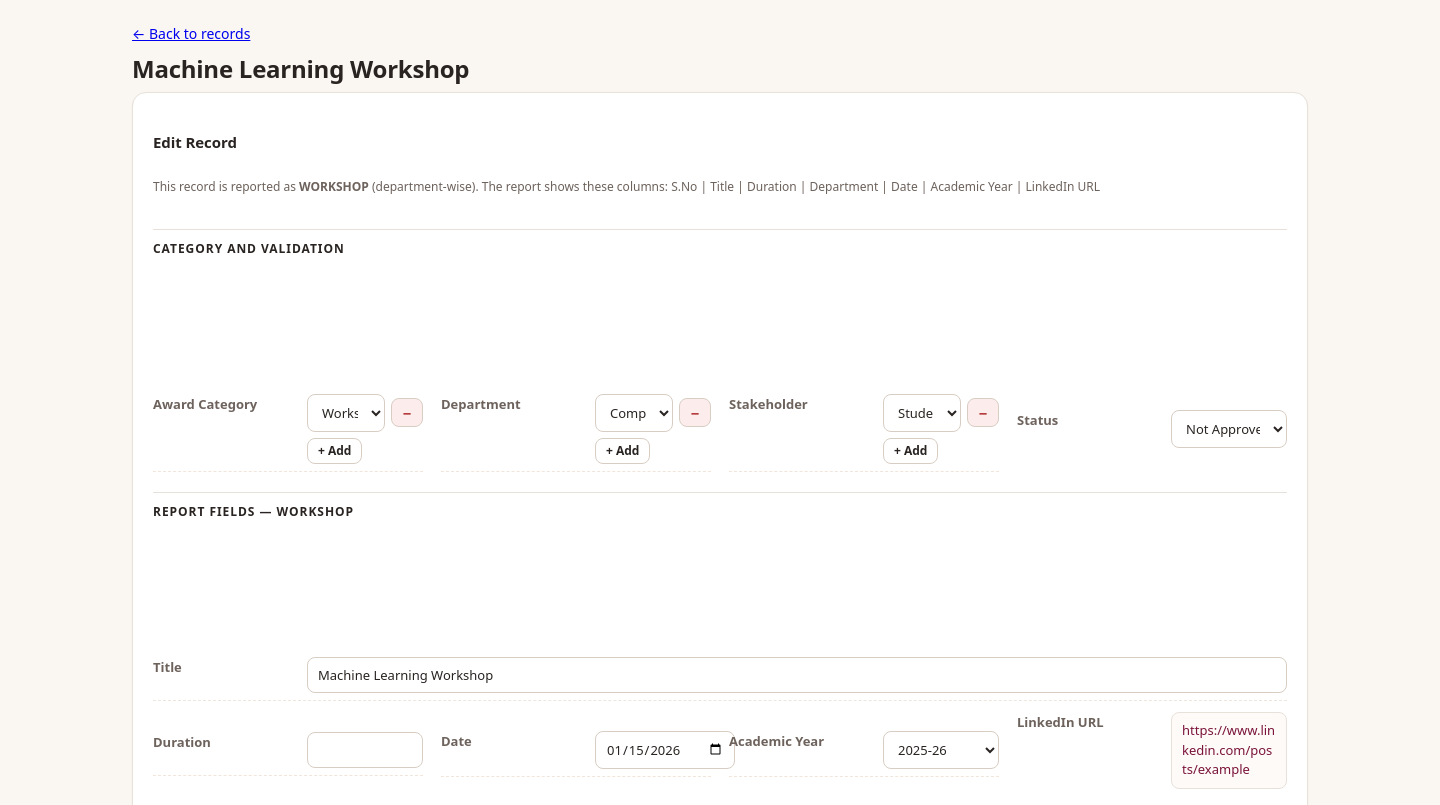
Test: LinkedIn Admin Record Detail › removes an existing department value and sends the empty array in the PATCH payload
Expected: the dropdown labelled "Department" is shown, [595,394,673,432]
Remove the first (and only) department row.
Click the button named "Remove Department 1".
click(695, 413)  # box [679,398,711,427]
(page scrolled)
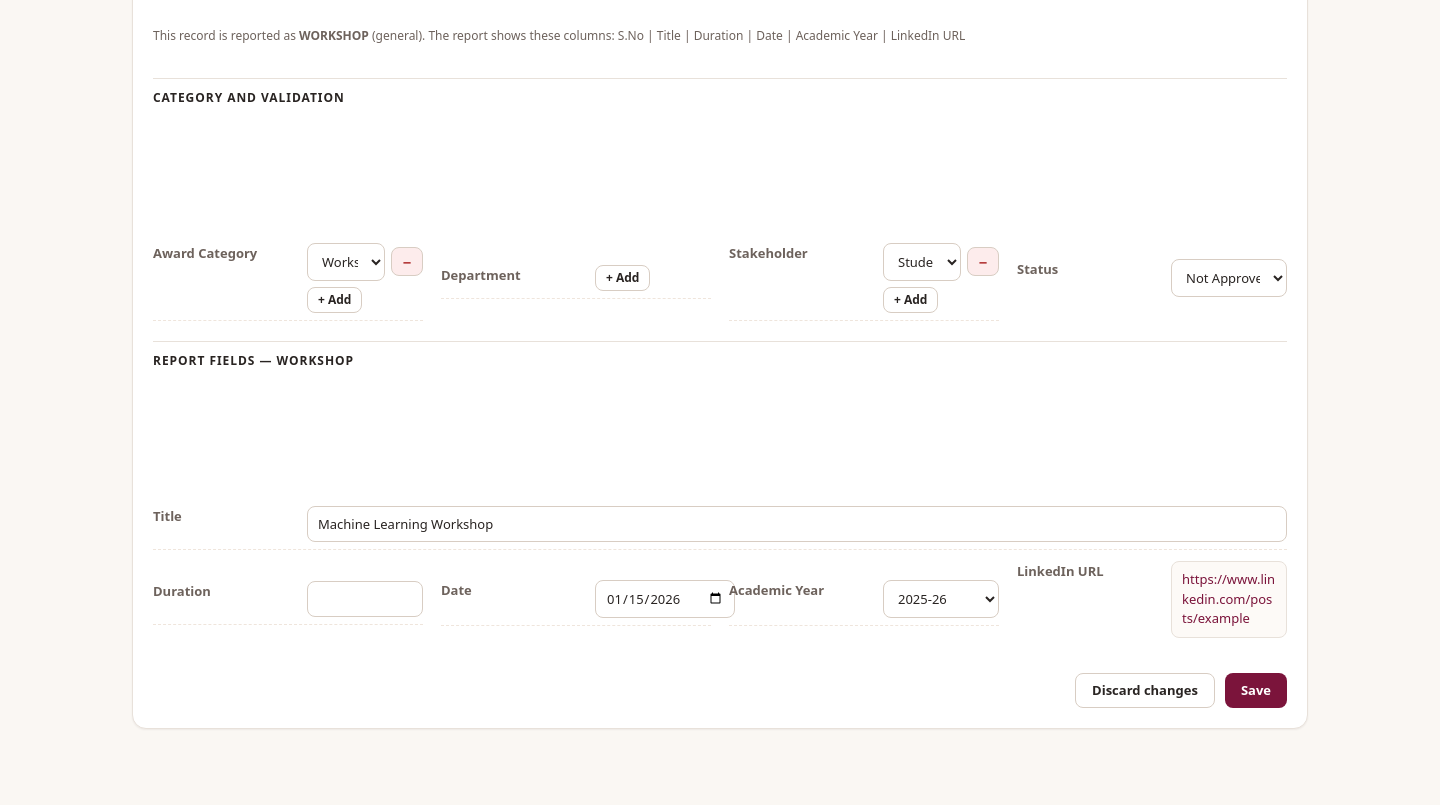
Click the button "Save".
click(1256, 690)  # box [1225,673,1287,708]
(page scrolled)
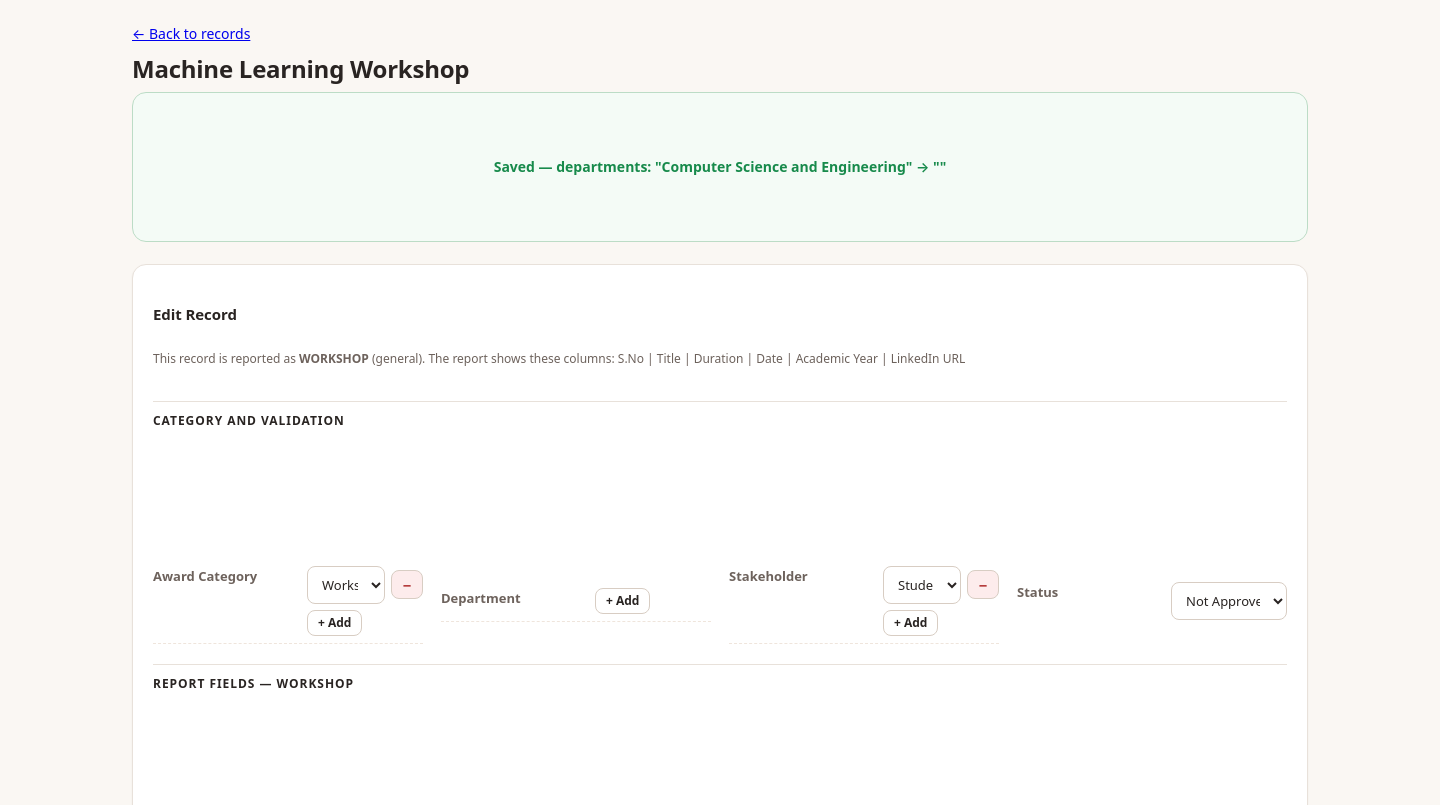
Expected: the text "Saved — departments: \"Computer Science and Engineering\" → \"\"" is shown, [132,92,1308,242]
